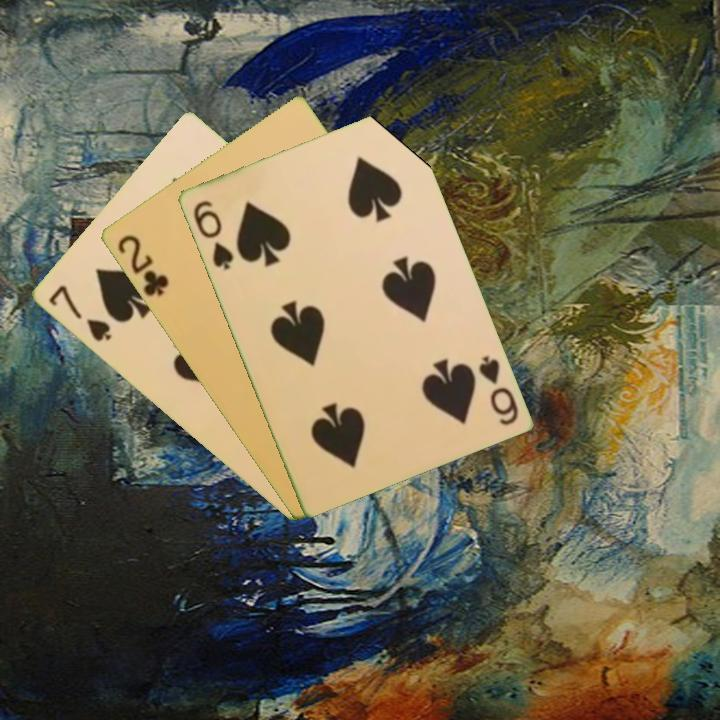2c: (113, 231, 172, 300)
6s: (189, 196, 236, 273), (474, 352, 521, 428)
7s: (44, 281, 114, 345)
